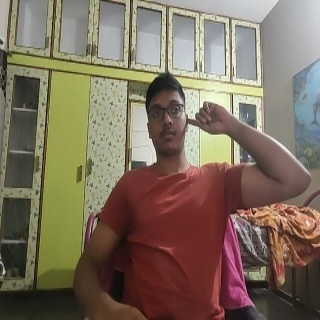Deaf: (186, 99, 235, 137)
Face: (144, 70, 190, 158)
